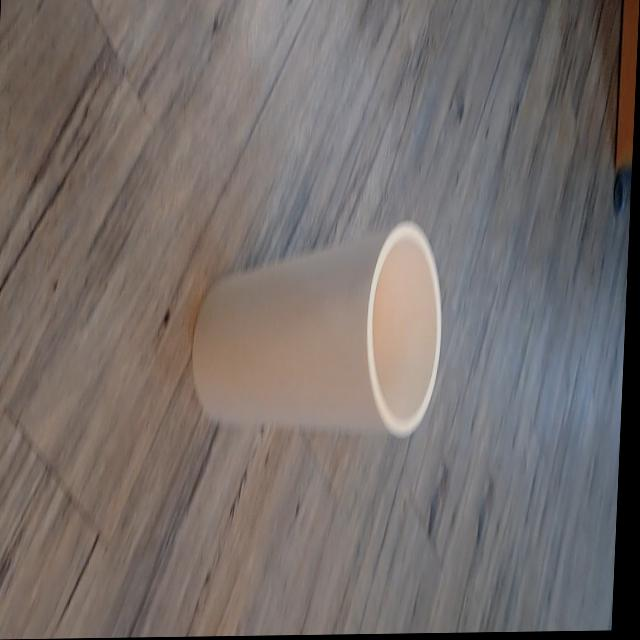CORAL: (173, 181, 460, 485)
